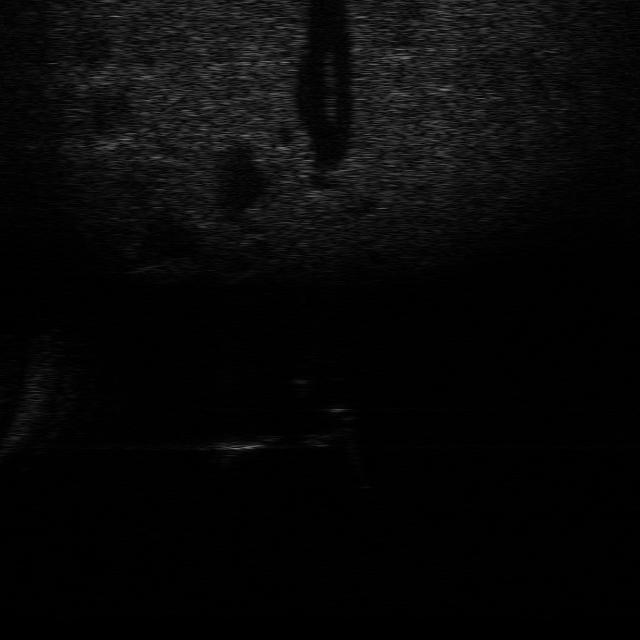ball: (271, 368, 320, 404)
square cage: (204, 426, 294, 470)
tyre: (298, 399, 362, 449)
